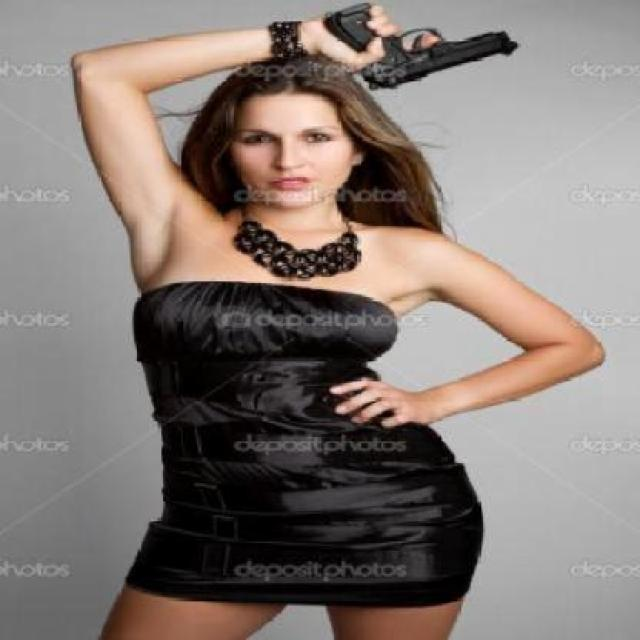gun: (321, 0, 527, 95)
